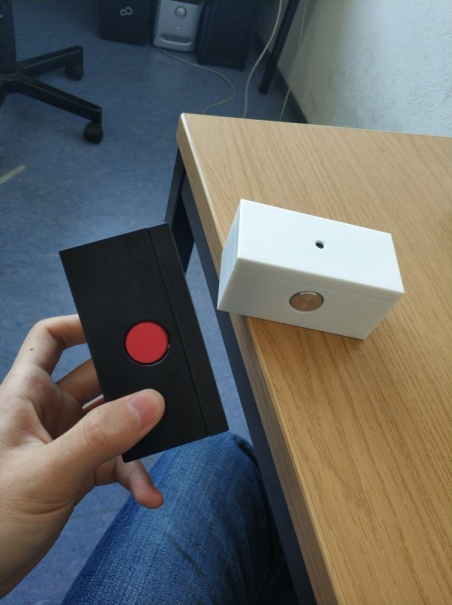black+black+red: (57, 222, 231, 462)
white+white+silver: (213, 197, 408, 341)
